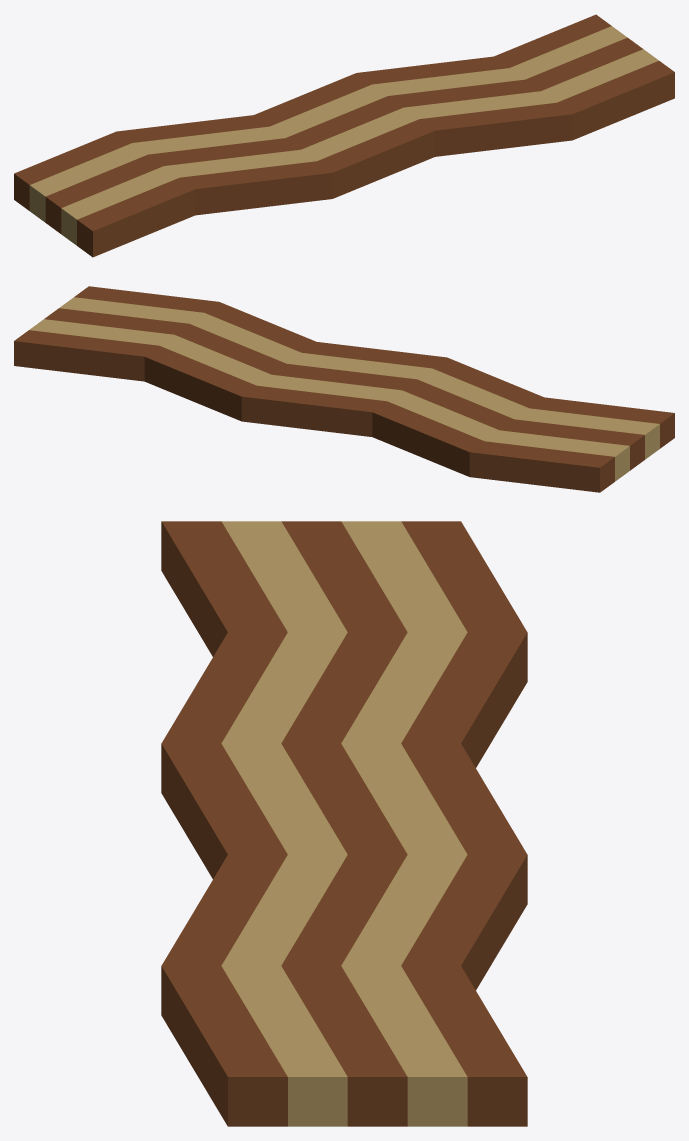
The model's file is bacon_1.glb.
3 views of the same model, one above another, from view 1: azimuth 30°, elevation 25°; view 2: azimuth 150°, elevation 25°; view 3: azimuth 270°, elevation 25° (orthographic). The views are drawn at different scales.
Parts seen in each view (by area): view 1: bacon_1; view 2: bacon_1; view 3: bacon_1.
Boxes of the visible parts, box(x1,y1,x2,y2) form: bacon_1: box(14, 14, 674, 257); bacon_1: box(14, 286, 674, 492); bacon_1: box(161, 521, 527, 1126).
Bounding box in the file's own units: 0.1839 × 0.00769 × 0.0512.
1 material, 1 textured.
